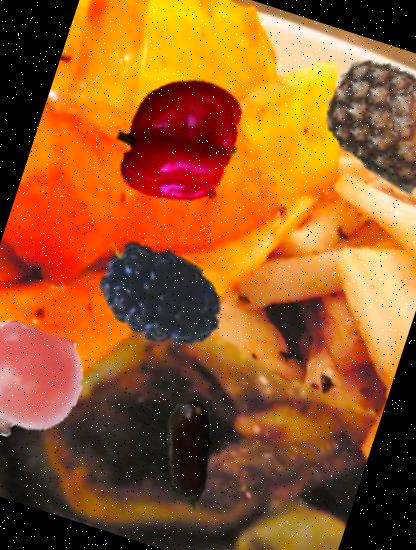Eggplant: (118, 383, 262, 527)
Mulberry: (63, 219, 242, 397)
Pepper: (94, 55, 263, 224)
Pineapple: (302, 33, 416, 212)
Redcurrant: (0, 308, 95, 454)
